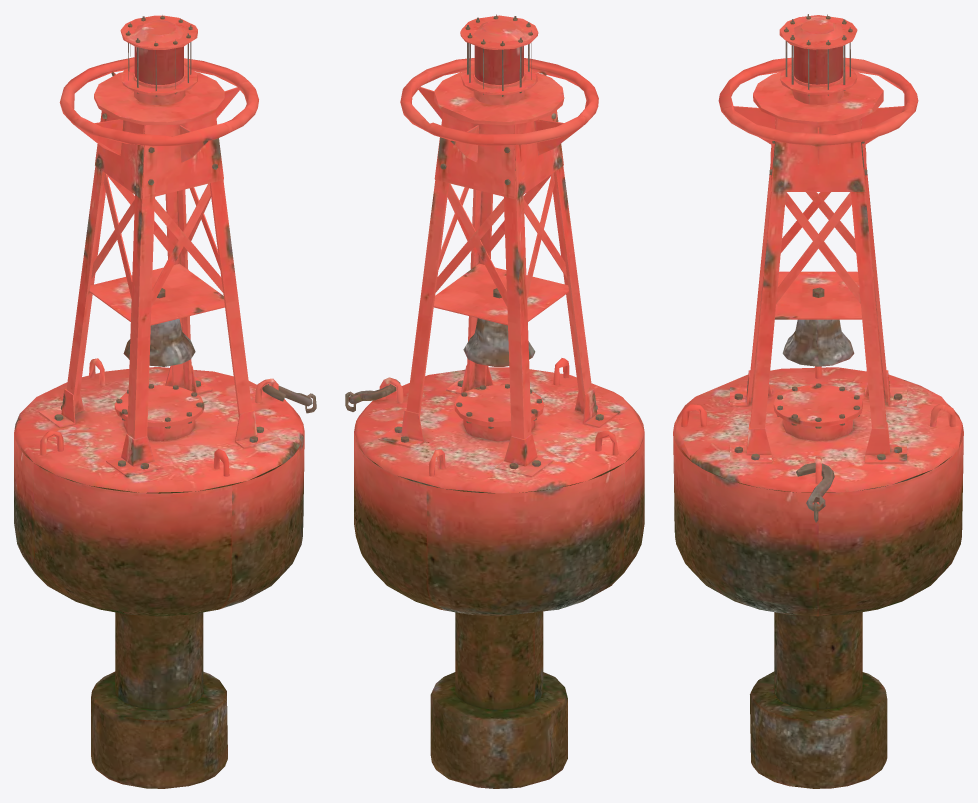
Rendered from ocean_buoy.glb.
The picture shows the model from 3 angles, left to right: view 1: azimuth 30°, elevation 25°; view 2: azimuth 150°, elevation 25°; view 3: azimuth 270°, elevation 25°; orthographic projection.
Visible parts, largest first — view 1: ocean_buoy; view 2: ocean_buoy; view 3: ocean_buoy.
Part boxes in pixels (x1,y1,x2,y2): ocean_buoy: (14,15,316,788); ocean_buoy: (345,14,644,788); ocean_buoy: (673,14,963,788).
Size of the model in its own units: 1.06 by 2.66 by 0.9521.
Materials: 1 (1 with a texture image).
